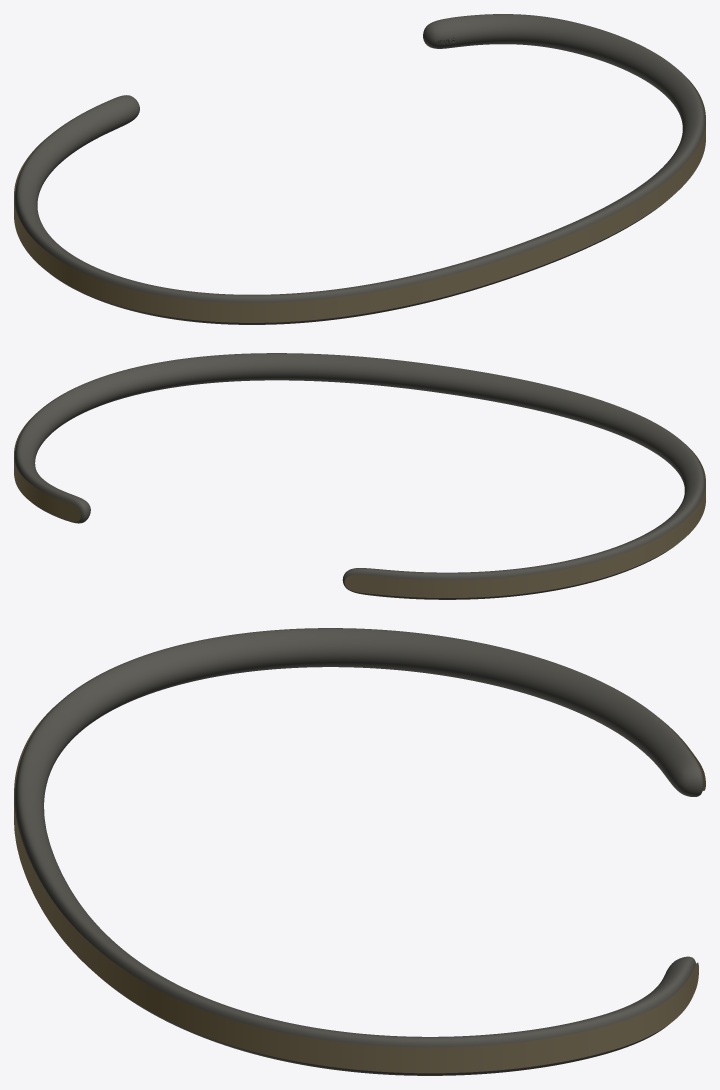
File: bold-black.glb
3 views of the same model, one above another, from view 1: azimuth 30°, elevation 25°; view 2: azimuth 150°, elevation 25°; view 3: azimuth 270°, elevation 25° (orthographic). The views are drawn at different scales.
Visible parts, largest first — view 1: bold-body.003, bpld-omote.003; view 2: bold-body.003, bpld-omote.003; view 3: bold-body.003, bpld-omote.003.
Boxes of the visible parts, x1,y1,x2,y2 form: bold-body.003: (14,14,705,324); bpld-omote.003: (14,72,705,322); bold-body.003: (14,353,705,599); bpld-omote.003: (14,413,705,597); bold-body.003: (14,628,703,1075); bpld-omote.003: (14,704,705,1073).
Size of the model in its own units: 3.4 by 0.1422 by 2.39.
2 materials, 2 textured.
